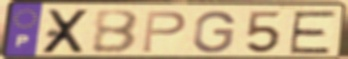5: (245, 10, 283, 54)
B: (90, 9, 142, 55)
E: (286, 9, 339, 55)
G: (191, 9, 238, 55)
P: (140, 10, 189, 54)
X: (39, 8, 94, 56)
